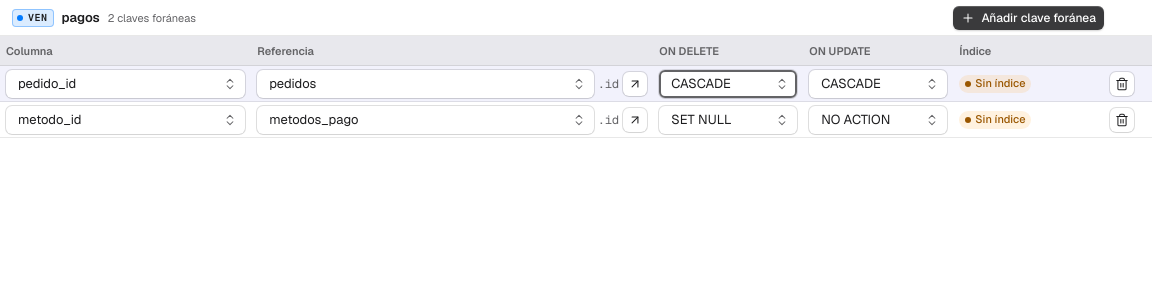
ForeignKeysTab › SET NULL sobre una columna no nula avisa, se guarda y ofrece la salida (FR-030)
Press Enter
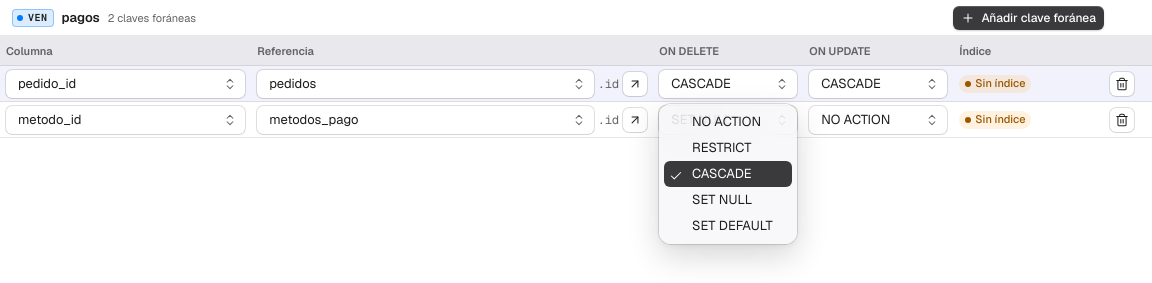
Click the option "SET NULL" at (722, 200), box [692,191,752,208]
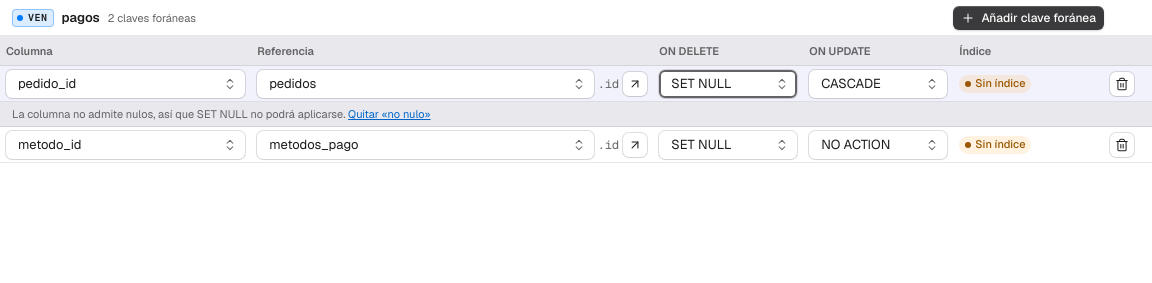
Now the message shows "La columna no admite nulos, así que SET NULL no podrá aplicarse.", box [12,107,345,121]
Click the button "Quitar «no nulo»" at (389, 114), box [348,106,430,122]
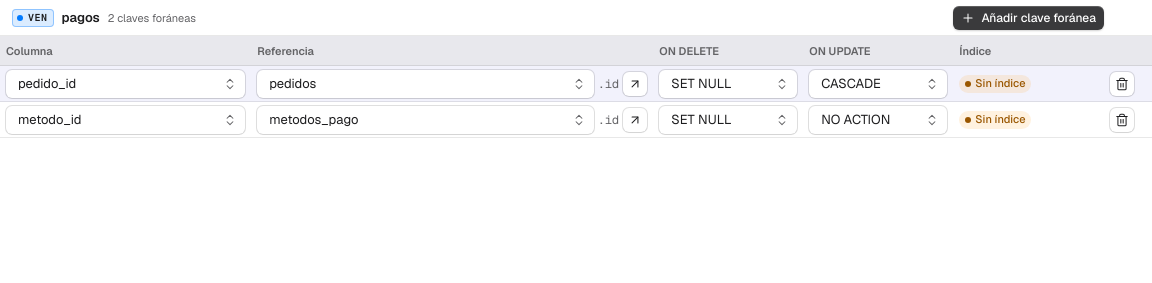
Now the text "La columna no admite nulos, así que SET NULL no podrá aplicarse." is gone
